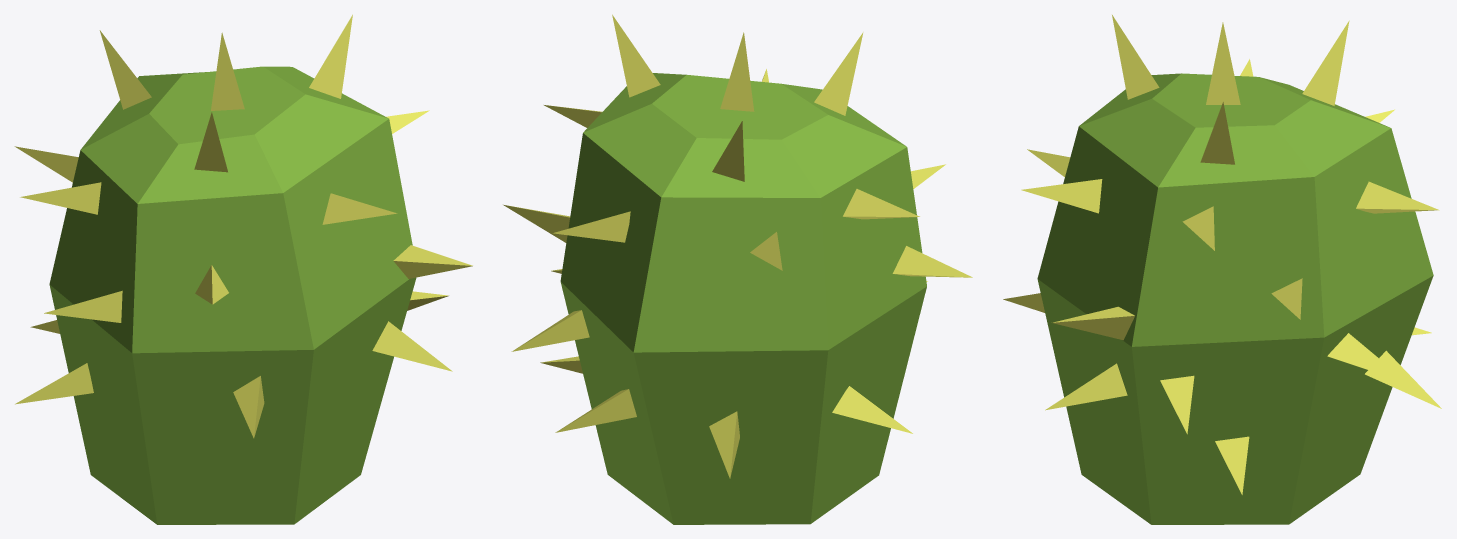
File: BallCactus.fbx
3 renders of one model, left to right at view 1: azimuth 30°, elevation 25°; view 2: azimuth 150°, elevation 25°; view 3: azimuth 270°, elevation 25°, orthographic. The views are drawn at different scales.
Visible parts, largest first — view 1: 柱体.020; view 2: 柱体.020; view 3: 柱体.020.
Boxes of the visible parts, left/top/right/bottom form: 柱体.020: left=14, top=14, right=472, bottom=524; 柱体.020: left=503, top=14, right=972, bottom=524; 柱体.020: left=1003, top=15, right=1441, bottom=524.
Size of the model in its own units: 182 by 164 by 186.
